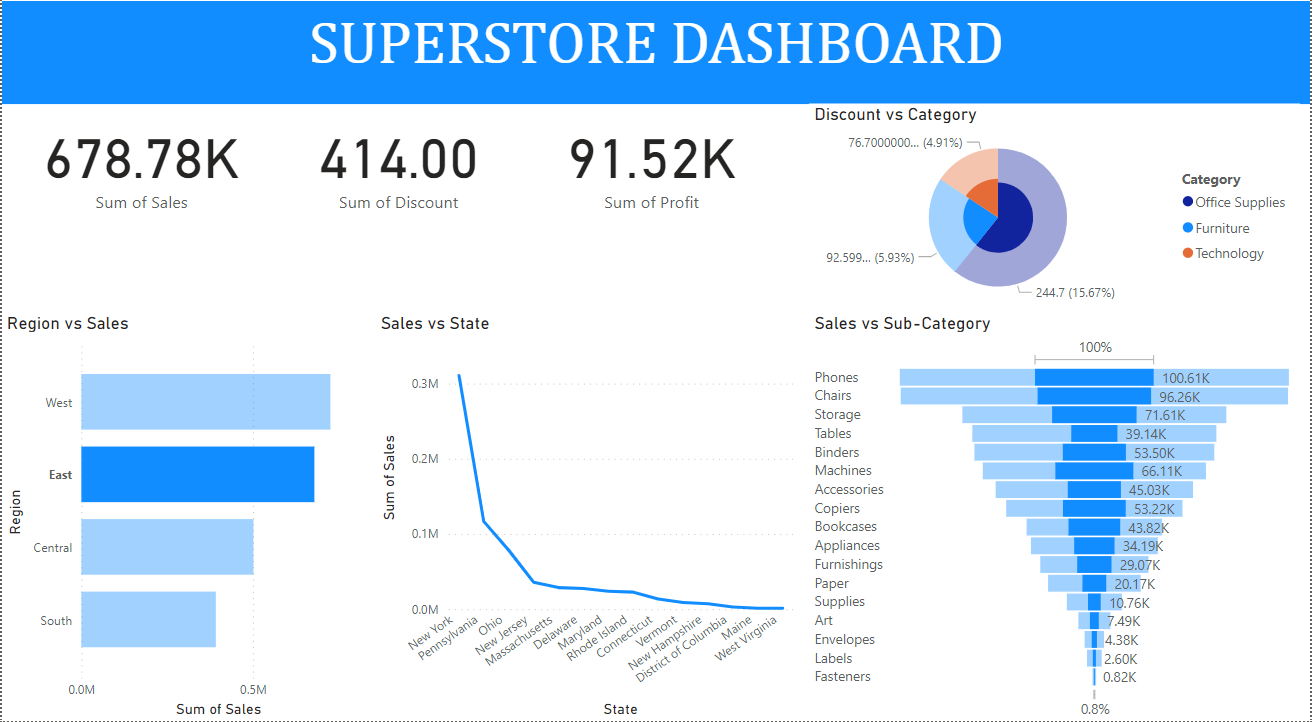

What the dashboard file says about the page in this screenshot:
{"tool":"powerbi","page":{"name":"Page 1","canvas":[1280,720],"ordinal":0},"visuals":[{"type":"barChart","title":"Region vs Sales","fields":{"Category":["Superstore_Dataset.Region"],"Y":["Sum(Superstore_Dataset.Sales)"]},"box":[0,319.4,365.4,401.4],"z":0},{"type":"lineChart","title":"Sales vs State","fields":{"Y":["Sum(Superstore_Dataset.Sales)"],"Category":["Superstore_Dataset.State"]},"box":[365.4,319.4,412.9,401.4],"z":1},{"type":"card","fields":{"Values":["Sum(Superstore_Dataset.Sales)"]},"box":[0,115.1,273.3,115.1],"z":2},{"type":"card","fields":{"Values":["Sum(Superstore_Dataset.Profit)"]},"box":[481.9,115.1,307.8,115.1],"z":3},{"type":"card","fields":{"Values":["Sum(Superstore_Dataset.Discount)"]},"box":[273.3,115.1,228.7,115.1],"z":4},{"type":"textbox","box":[0,14.4,1280.3,100.7],"z":5},{"type":"funnel","title":"Sales vs Sub-Category","fields":{"Category":["Superstore_Dataset.Sub-Category"],"Y":["Sum(Superstore_Dataset.Sales)"]},"box":[789.8,319.4,479,401.4],"z":6},{"type":"pieChart","title":"Discount vs Category","fields":{"Category":["Superstore_Dataset.Category"],"Y":["Sum(Superstore_Dataset.Discount)"]},"box":[789.8,115.1,479,204.3],"z":7}]}

Visuals, with their boxes in screenshot pixels (x1, y1, x2, y2), scaled from the page's 1280x720 canvas onto the 1312x722 screenshot:
"Region vs Sales" barChart: x1=0, y1=320, x2=375, y2=721
"Sales vs State" lineChart: x1=375, y1=320, x2=798, y2=721
card - Sum(Superstore_Dataset.Sales): x1=0, y1=115, x2=280, y2=231
card - Sum(Superstore_Dataset.Profit): x1=494, y1=115, x2=809, y2=231
card - Sum(Superstore_Dataset.Discount): x1=280, y1=115, x2=515, y2=231
textbox: x1=0, y1=14, x2=1311, y2=115
"Sales vs Sub-Category" funnel: x1=810, y1=320, x2=1301, y2=721
"Discount vs Category" pieChart: x1=810, y1=115, x2=1301, y2=320
